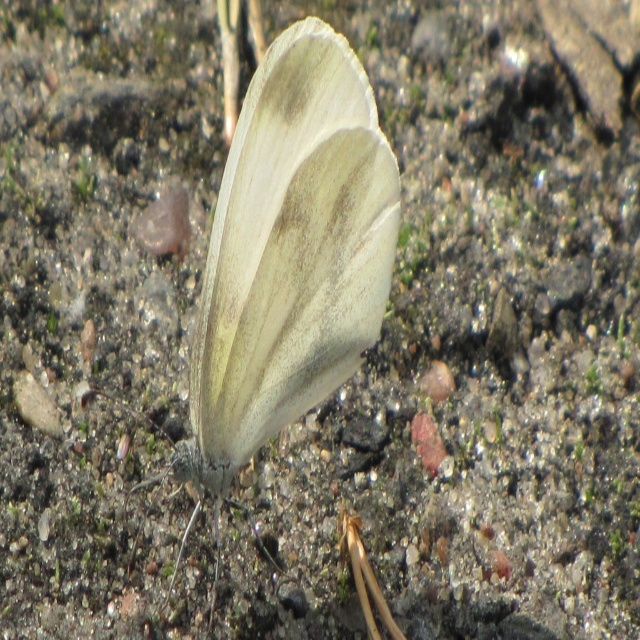Butterfly: (145, 0, 419, 572)
